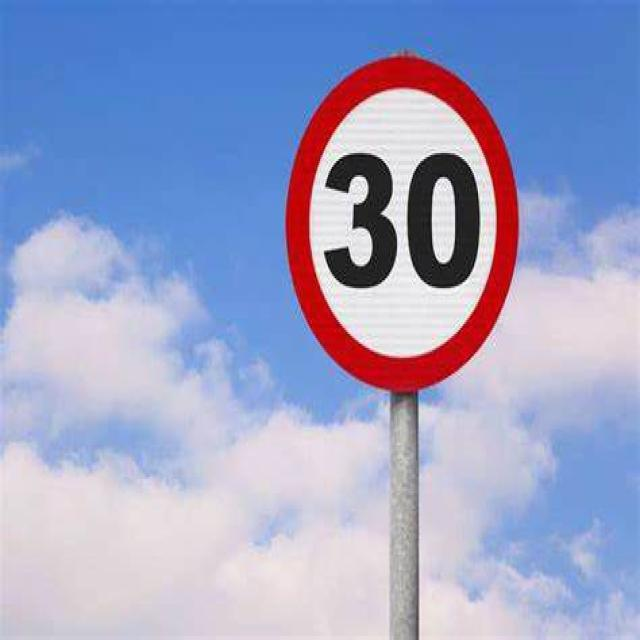speedlimit_30: (284, 54, 520, 382)
